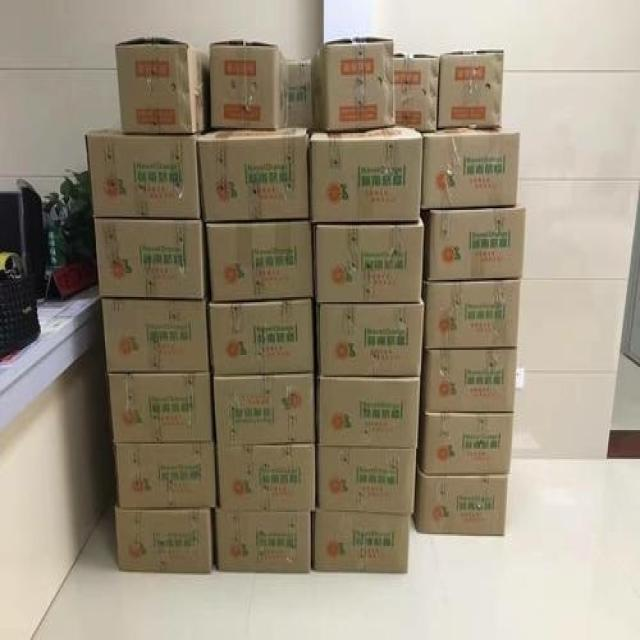box: (310, 125, 422, 222), (197, 128, 309, 222), (84, 131, 201, 218), (115, 37, 208, 134), (315, 220, 423, 302), (95, 219, 205, 299), (206, 221, 313, 301), (318, 298, 424, 377), (102, 298, 210, 373), (209, 298, 314, 375), (421, 129, 520, 209), (312, 37, 395, 130), (319, 374, 420, 448), (214, 372, 315, 445), (108, 373, 212, 443), (428, 207, 526, 280), (210, 40, 288, 130), (115, 442, 216, 509), (412, 466, 509, 535), (114, 506, 212, 573), (318, 446, 416, 513), (425, 280, 521, 348), (217, 444, 315, 510), (313, 510, 410, 573), (216, 508, 310, 572), (423, 349, 517, 412), (422, 413, 514, 475), (438, 50, 504, 128), (394, 53, 439, 131), (288, 59, 312, 127)
